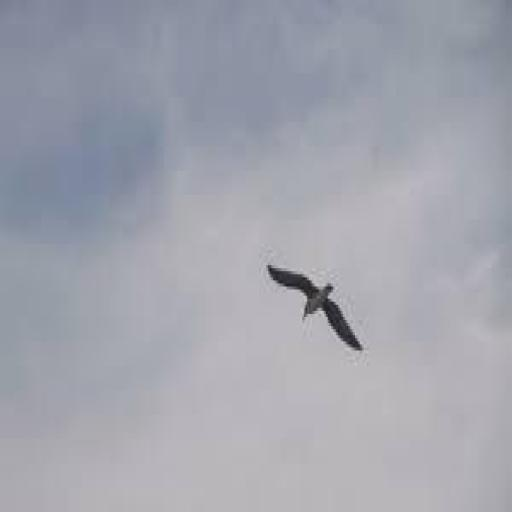birds: (266, 263, 364, 350)
